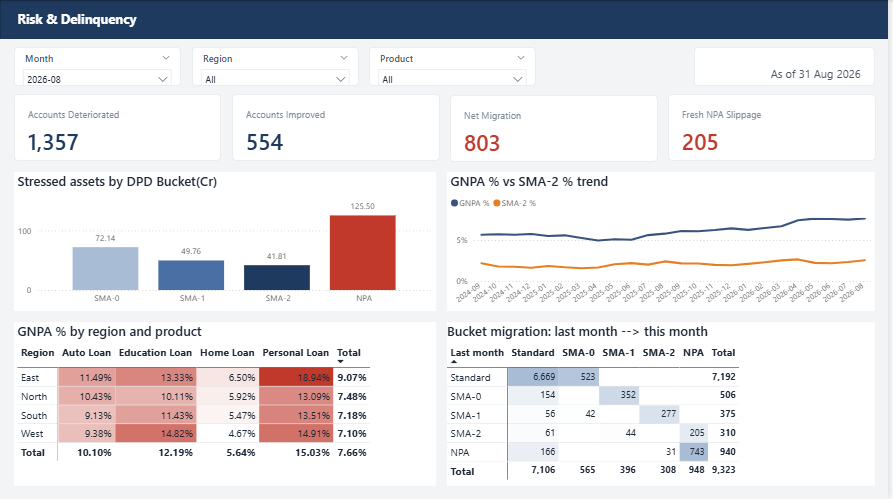

This screenshot's page, from the dashboard's own definition file:
{"tool":"powerbi","page":{"name":"Risk &  Delinquency","canvas":[1280,720],"ordinal":1},"visuals":[{"type":"slicer","fields":{"Values":["Dim_date_table.Year Month"]},"box":[20,68,240,56.2],"z":0},{"type":"slicer","fields":{"Values":["Dim_branches.Region"]},"box":[276,68,240,56.2],"z":1000},{"type":"slicer","fields":{"Values":["Dim_products.Product_type"]},"box":[532,68,240,56.2],"z":2000},{"type":"shape","box":[0,0,1280,56],"z":3000},{"type":"textbox","box":[20,10,600,36],"z":4000},{"type":"cardVisual","fields":{"Data":["_Measures.Title - As Of"]},"box":[1000,68.3,260,56],"z":5000},{"type":"cardVisual","fields":{"Data":["_Measures.Accounts Deteriorated"]},"box":[20,136,298,96.2],"z":6000},{"type":"cardVisual","fields":{"Data":["_Measures.Accounts Improved"]},"box":[334,136,298.8,96.2],"z":7000},{"type":"cardVisual","fields":{"Data":["_Measures.Net Migration"]},"box":[648,136.2,298.8,96.2],"z":8000},{"type":"cardVisual","fields":{"Data":["_Measures.Fresh NPA Slippage"]},"box":[962,136,298.8,96.2],"z":9000},{"type":"clusteredColumnChart","title":"Stressed assets by DPD Bucket(Cr)","fields":{"Category":["Dim_DPDBucket.DPD Bucket"],"Y":["_Measures.Outstanding (Cr)"]},"box":[20,248,608,200],"z":10000},{"type":"lineChart","title":"GNPA % vs SMA-2 % trend","fields":{"Category":["Dim_date_table.Year Month"],"Y":["_Measures.Gross NPA %","_Measures.SMA-2 %"]},"box":[644,248,616.3,200],"z":11000},{"type":"pivotTable","title":"GNPA % by region and product","fields":{"Rows":["Dim_branches.Region"],"Columns":["Dim_products.Product_type"],"Values":["_Measures.Gross NPA %"]},"box":[20,464,608,236],"z":12000},{"type":"pivotTable","title":"Bucket migration: last month --> this month","fields":{"Columns":["Dim_DPDBucket.DPD Bucket"],"Values":["_Measures.Accounts in Snapshot"],"Rows":["Dim_PrevBucket.Last Month Bucket"]},"box":[643.7,463.7,616.3,236.2],"z":13000}]}

Visuals, with their boxes in screenshot pixels (x1, y1, x2, y2), scaled from the page's 1280x720 canvas onto the 893x499 screenshot:
slicer - Dim_date_table.Year Month: (14, 47, 181, 86)
slicer - Dim_branches.Region: (193, 47, 360, 86)
slicer - Dim_products.Product_type: (371, 47, 539, 86)
shape: (0, 0, 892, 39)
textbox: (14, 7, 433, 32)
cardVisual - _Measures.Title - As Of: (698, 47, 879, 86)
cardVisual - _Measures.Accounts Deteriorated: (14, 94, 222, 161)
cardVisual - _Measures.Accounts Improved: (233, 94, 441, 161)
cardVisual - _Measures.Net Migration: (452, 94, 661, 161)
cardVisual - _Measures.Fresh NPA Slippage: (671, 94, 880, 161)
"Stressed assets by DPD Bucket(Cr)" clusteredColumnChart: (14, 172, 438, 310)
"GNPA % vs SMA-2 % trend" lineChart: (449, 172, 879, 310)
"GNPA % by region and product" pivotTable: (14, 322, 438, 485)
"Bucket migration: last month --> this month" pivotTable: (449, 321, 879, 485)
